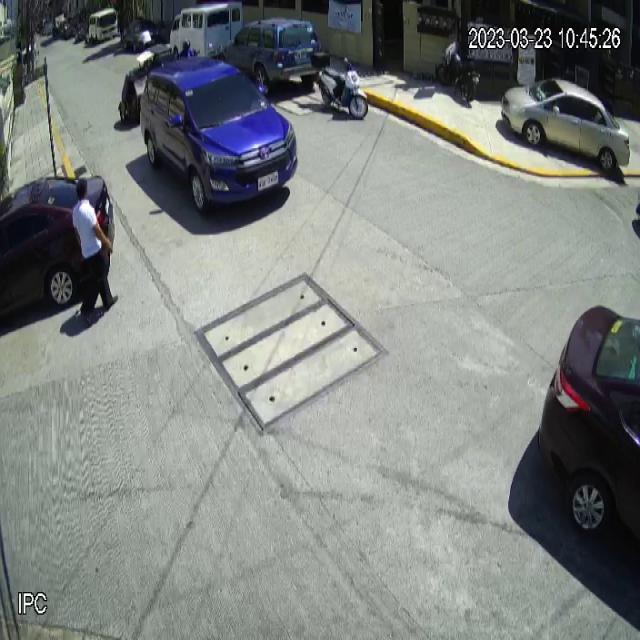Car: (138, 54, 298, 215), (500, 76, 631, 177), (216, 17, 320, 96)
Motorcycle: (311, 50, 369, 121)
Van: (169, 0, 243, 68)
